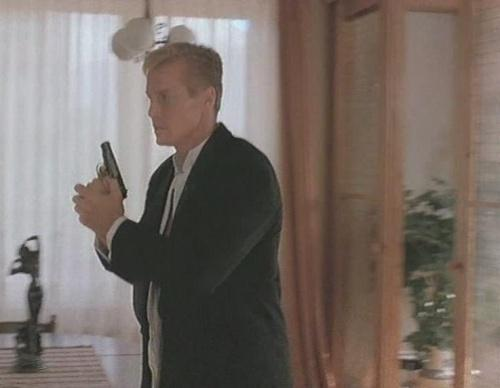Gun: (96, 142, 128, 202)
